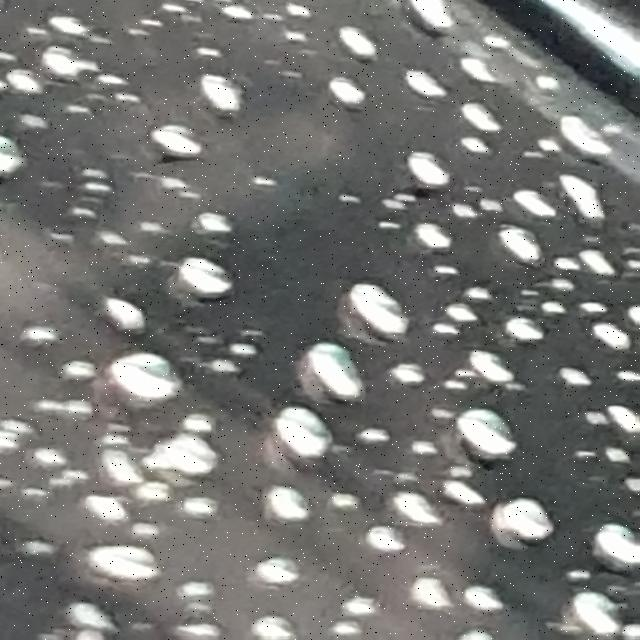raindrop: (478, 494, 566, 552), (68, 539, 174, 586), (342, 268, 409, 341), (109, 341, 190, 401), (270, 398, 338, 468), (144, 431, 224, 486), (306, 338, 370, 401), (138, 113, 212, 165), (160, 250, 242, 296), (551, 108, 627, 156), (568, 587, 635, 640), (579, 518, 640, 576), (254, 481, 322, 530), (455, 404, 512, 459), (0, 392, 105, 421), (332, 22, 392, 72), (58, 592, 120, 640), (188, 70, 248, 119), (461, 343, 526, 388), (400, 0, 468, 42), (560, 168, 604, 232), (98, 286, 156, 334), (399, 67, 466, 108), (398, 146, 459, 191), (506, 186, 572, 226), (42, 42, 104, 84), (394, 488, 452, 532), (485, 312, 557, 346), (319, 68, 381, 107), (459, 101, 516, 143), (251, 554, 311, 592), (358, 521, 418, 559), (338, 593, 402, 628), (576, 243, 628, 286), (357, 422, 406, 467), (492, 224, 542, 268), (578, 316, 634, 354), (197, 206, 252, 244), (222, 337, 288, 368), (0, 132, 36, 186), (460, 579, 512, 616), (4, 60, 52, 100), (118, 511, 180, 541), (204, 354, 259, 387), (454, 47, 507, 81), (526, 66, 578, 99), (125, 168, 192, 193), (548, 358, 602, 389), (5, 532, 53, 566), (80, 494, 134, 524), (428, 296, 481, 326), (15, 316, 60, 351), (182, 486, 228, 520), (246, 614, 306, 640), (386, 354, 426, 393), (47, 13, 102, 41), (128, 474, 168, 512), (602, 398, 640, 438), (408, 580, 455, 612), (100, 450, 144, 484), (116, 216, 176, 240), (48, 356, 100, 382), (212, 1, 262, 28), (411, 223, 454, 254), (325, 491, 370, 520), (430, 396, 468, 430), (482, 192, 522, 224), (0, 414, 27, 460), (532, 126, 570, 158), (26, 448, 72, 474), (168, 618, 220, 640), (412, 431, 450, 461), (458, 134, 494, 165), (316, 617, 368, 638), (88, 226, 130, 252), (56, 470, 94, 498), (167, 580, 226, 598), (275, 20, 319, 44), (445, 483, 487, 508), (420, 322, 470, 342), (441, 623, 499, 640), (0, 419, 46, 439), (460, 286, 504, 306), (608, 362, 640, 388), (180, 600, 226, 618), (106, 87, 154, 104), (546, 250, 580, 274), (76, 180, 121, 198), (194, 42, 228, 64), (283, 0, 323, 18), (70, 163, 120, 176), (605, 443, 632, 467), (484, 27, 512, 49), (577, 294, 607, 314), (534, 295, 567, 313), (432, 258, 460, 278), (380, 193, 408, 213), (449, 200, 474, 222), (580, 408, 610, 426), (121, 24, 152, 40), (625, 299, 640, 331), (91, 72, 127, 85), (154, 4, 193, 16), (619, 472, 640, 492), (546, 270, 574, 285), (138, 16, 160, 31)
